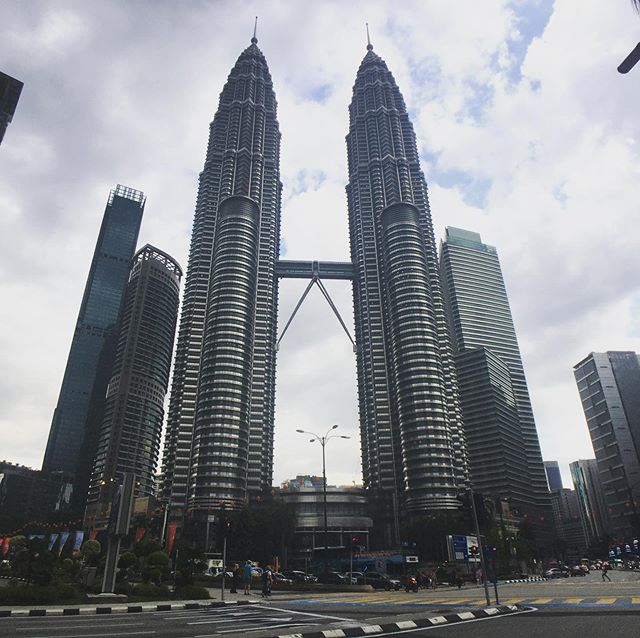building: (165, 21, 301, 521), (333, 47, 458, 528), (435, 225, 550, 500), (48, 188, 148, 475), (99, 248, 188, 517), (573, 352, 640, 527)
sky: (420, 18, 640, 210), (25, 1, 207, 185)
street: (6, 578, 640, 638)
